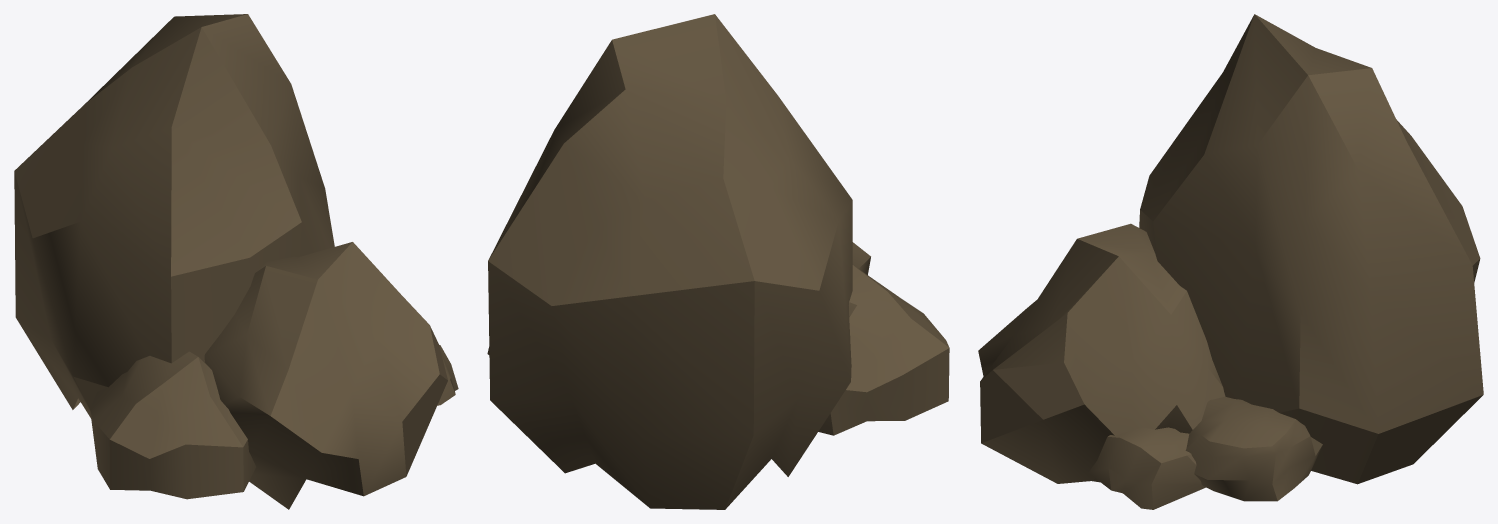
The model's file is rock_pile_4.fbx.
3 renders of one model, left to right at view 1: azimuth 30°, elevation 25°; view 2: azimuth 150°, elevation 25°; view 3: azimuth 270°, elevation 25°, orthographic. The views are drawn at different scales.
Parts seen in each view (by area): view 1: rock_pile_4; view 2: rock_pile_4; view 3: rock_pile_4.
Part boxes in pixels (x1,y1,x2,y2): rock_pile_4: (14, 14, 458, 509); rock_pile_4: (487, 14, 949, 509); rock_pile_4: (978, 14, 1483, 509).
Bounding box in the file's own units: 234 × 259 × 270.
